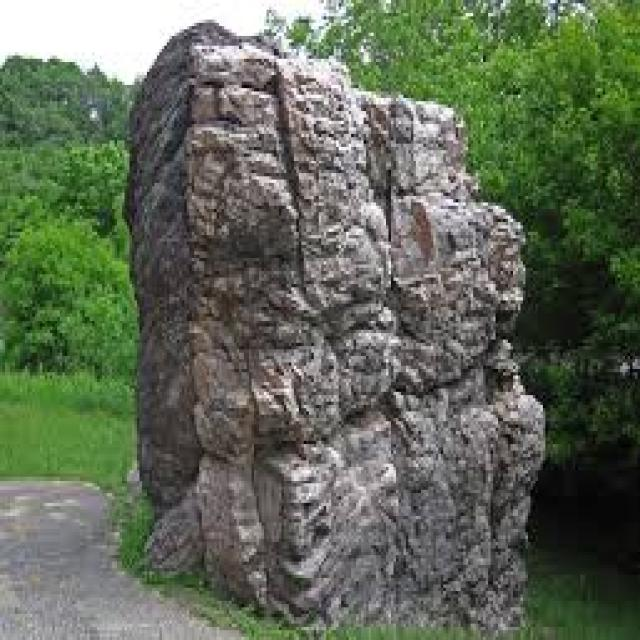Metamorphic: (130, 22, 536, 610)
